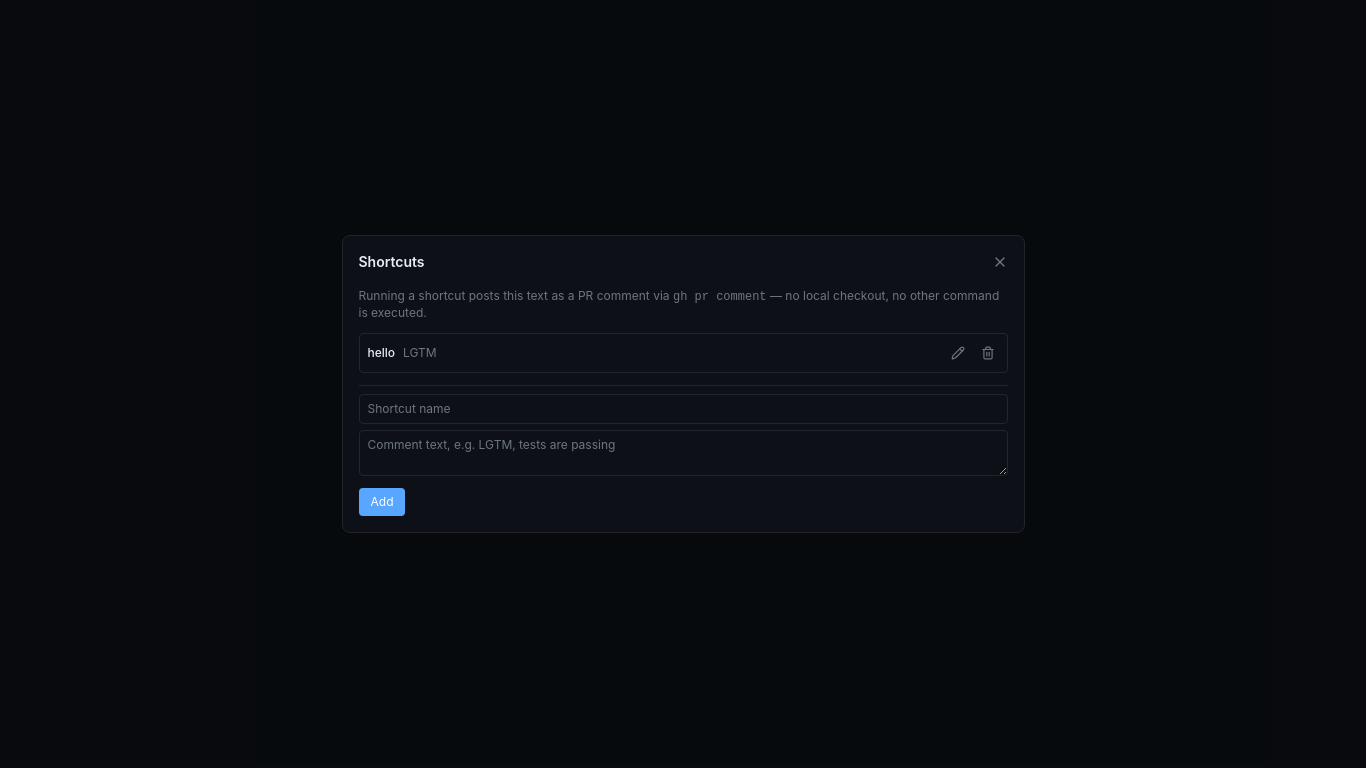
ShortcutsManagerModal › Cancel discards edits without persisting
The width and height of the screenshot is (1366, 768).
Click the button titled "Edit": [958, 353] box [946,342,968,364]
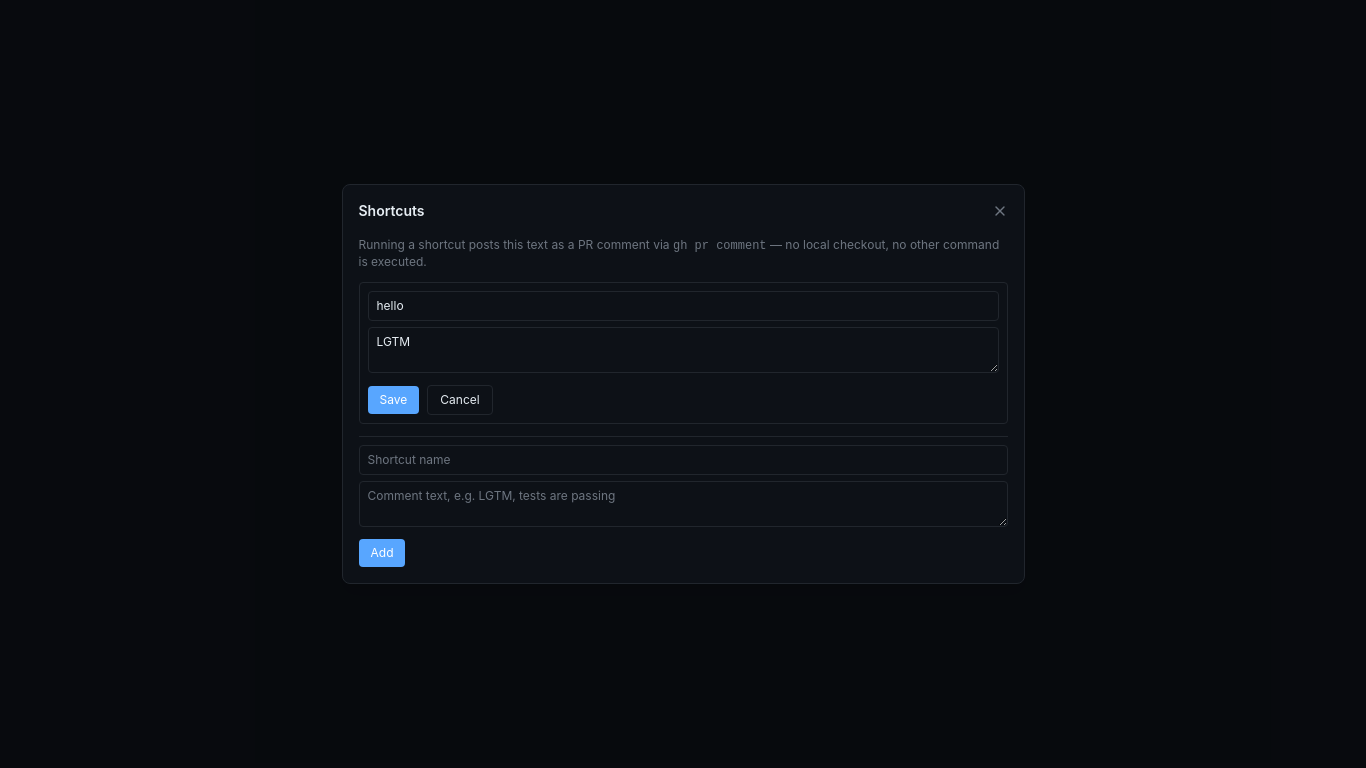
Replace the text in the field showing "hello" with "discarded": [683, 306] box [368,291,998,321]
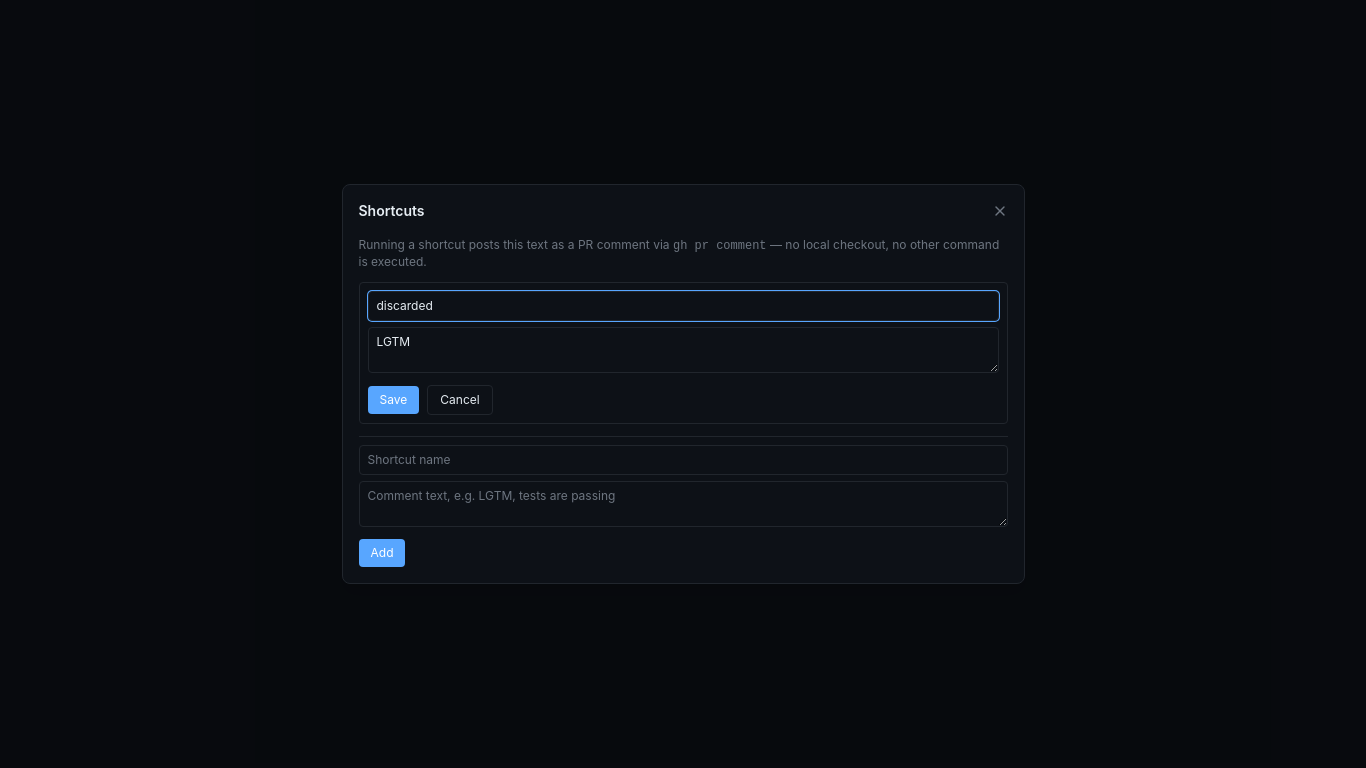
Click the button "Cancel": [460, 400] box [427,385,493,415]
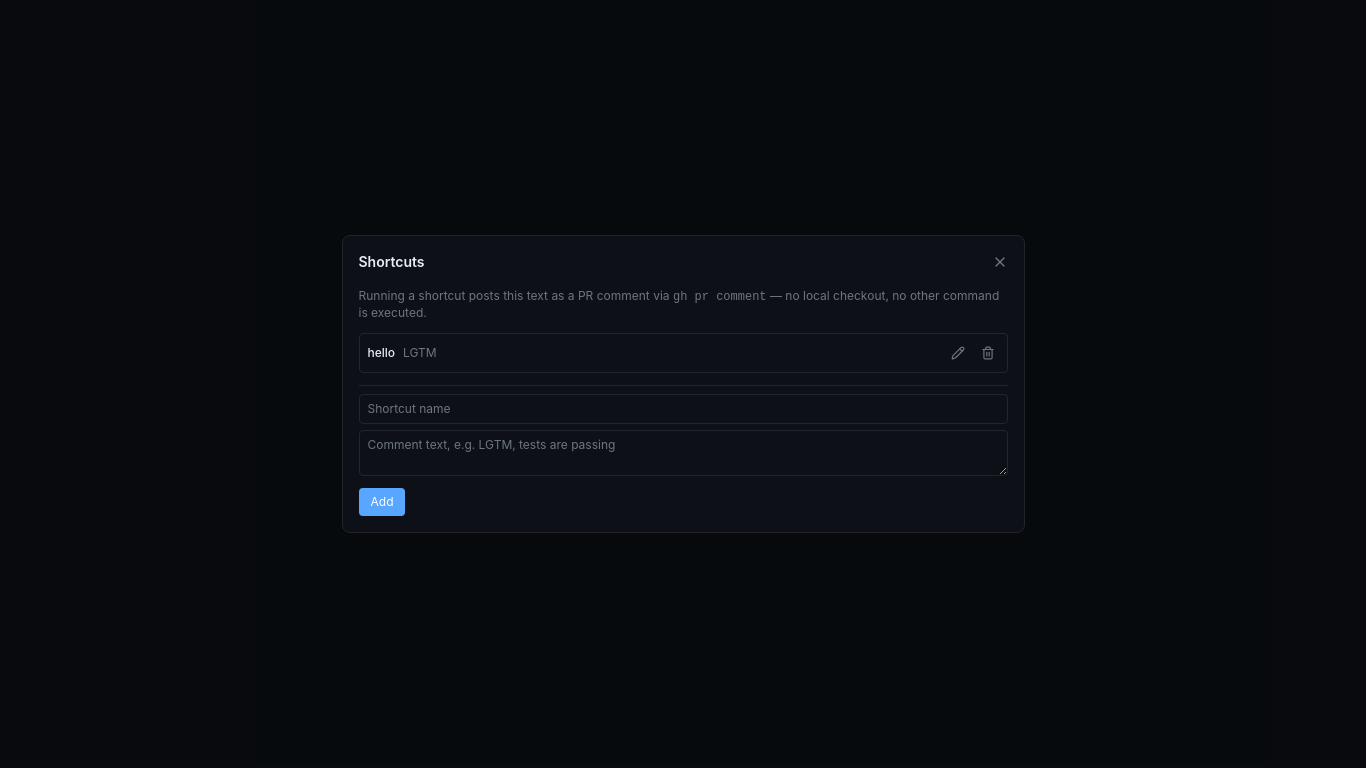
Expected: the text "hello" is shown, [368,345,395,361]
